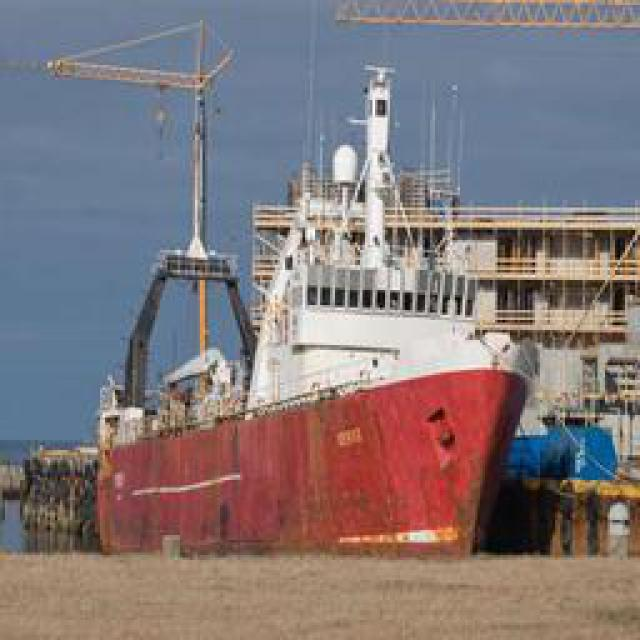Ship: (85, 44, 553, 559)
